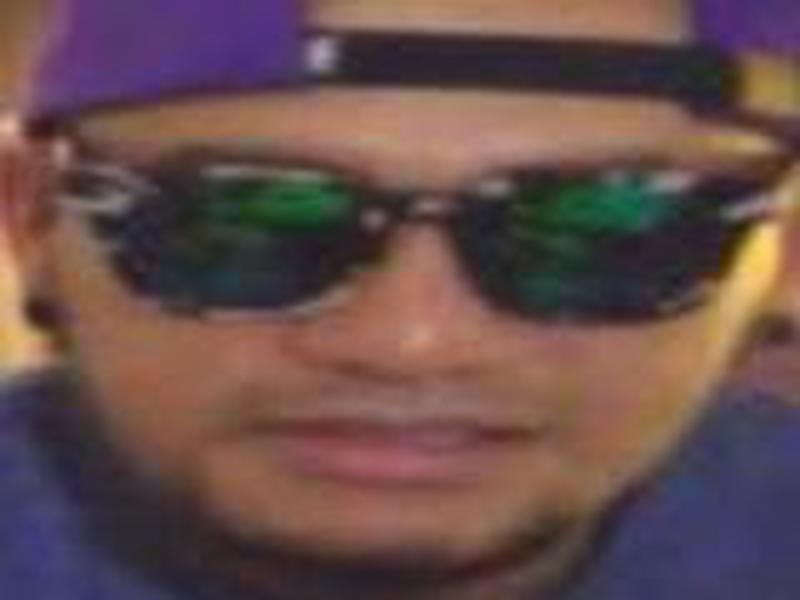without_mask: (46, 95, 765, 565)
